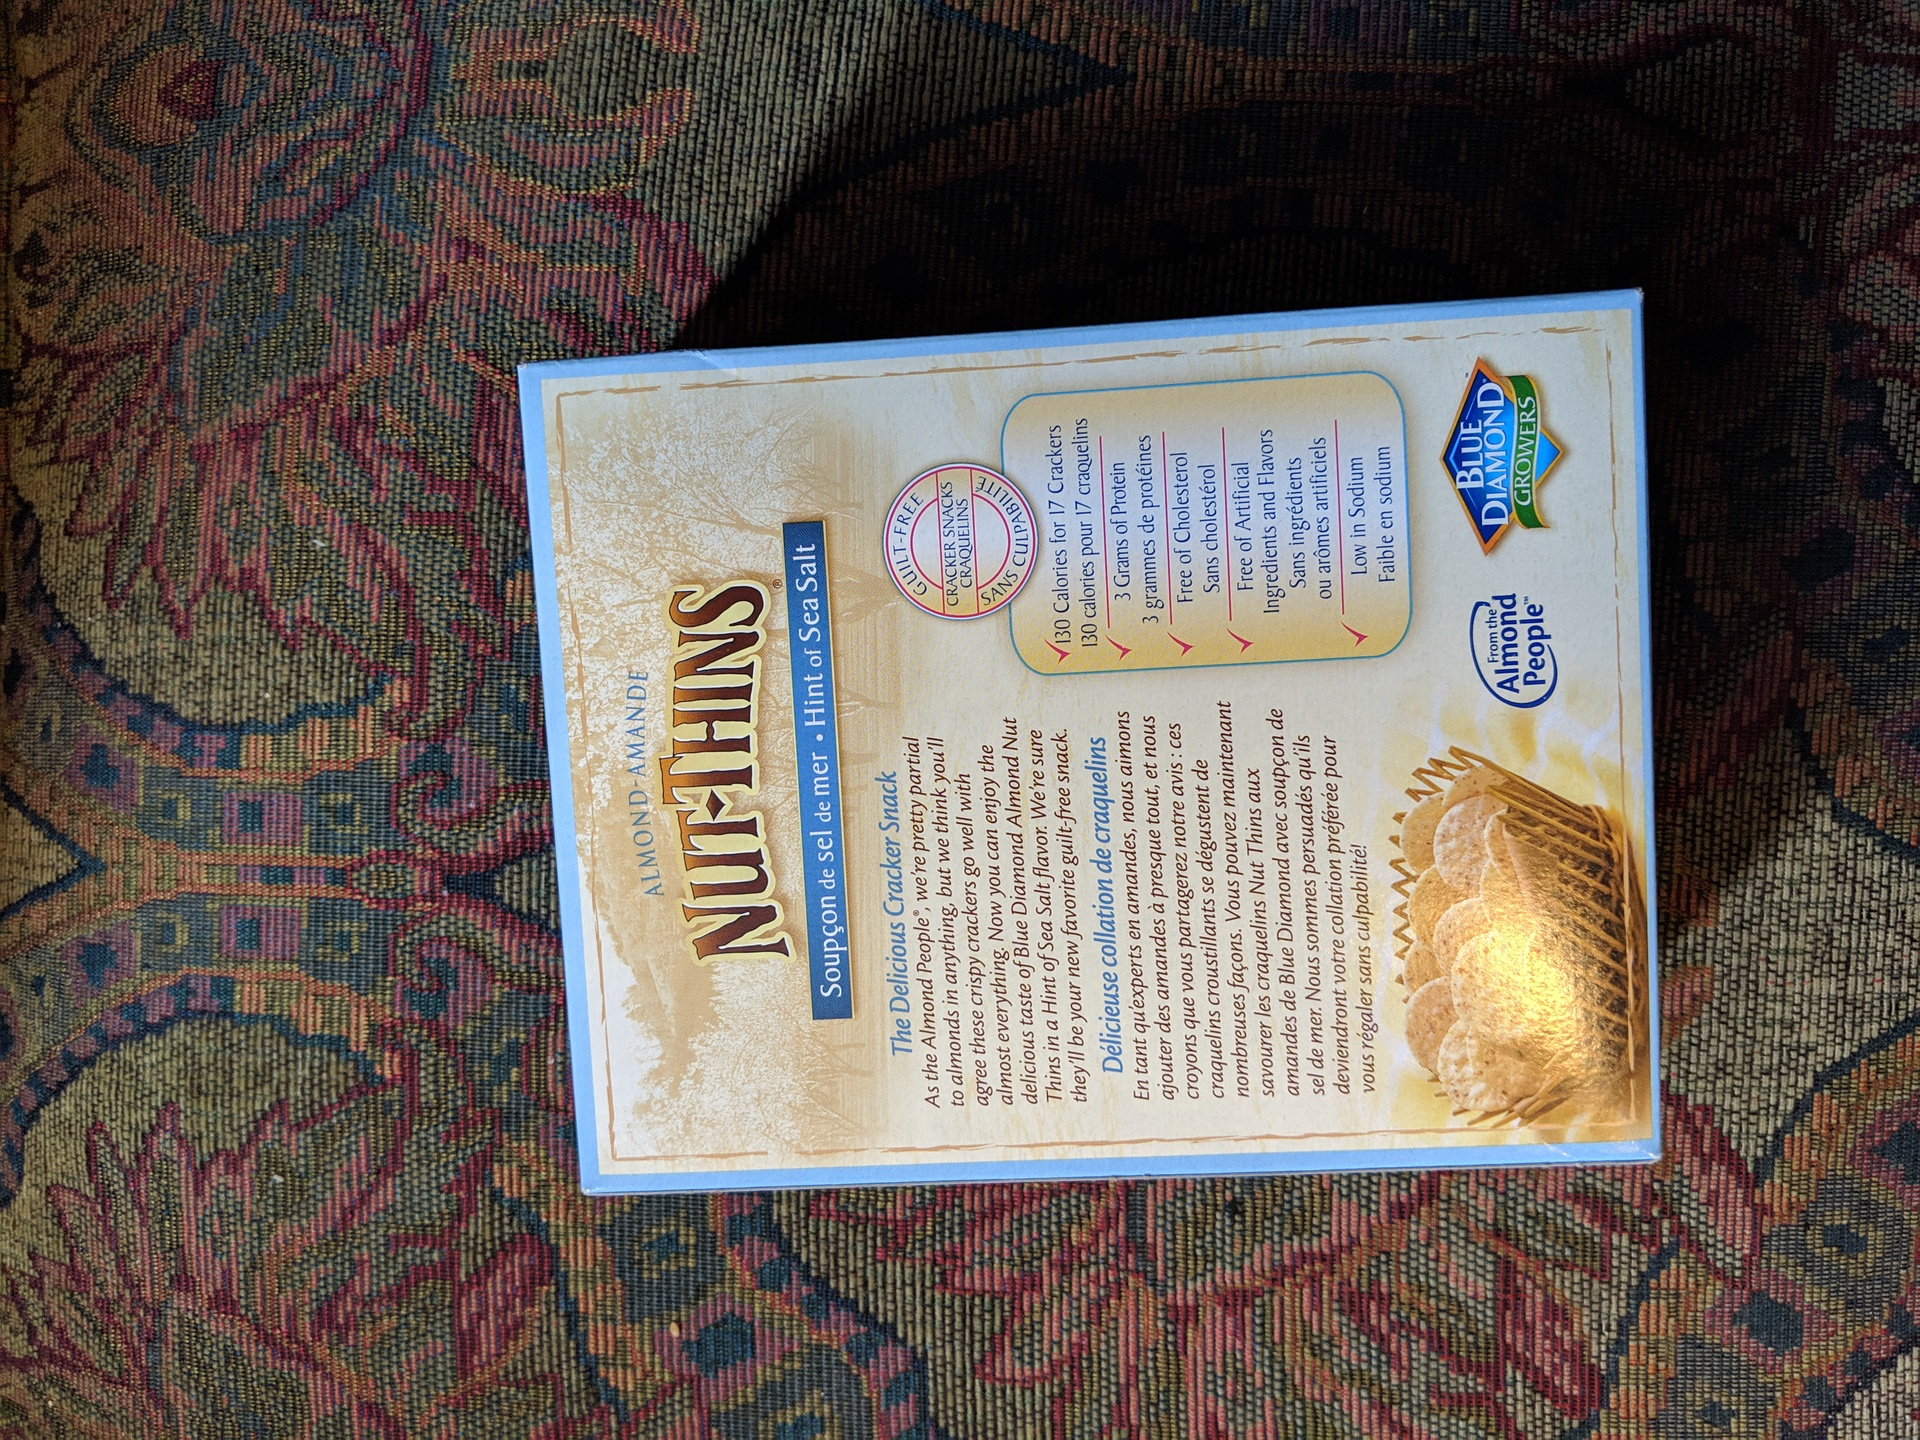blue_diamond_nut_thins_almond_seasalt: (573, 303, 1660, 1198)
